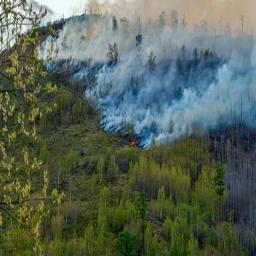Low smoke: (139, 0, 256, 137), (39, 3, 137, 134)
